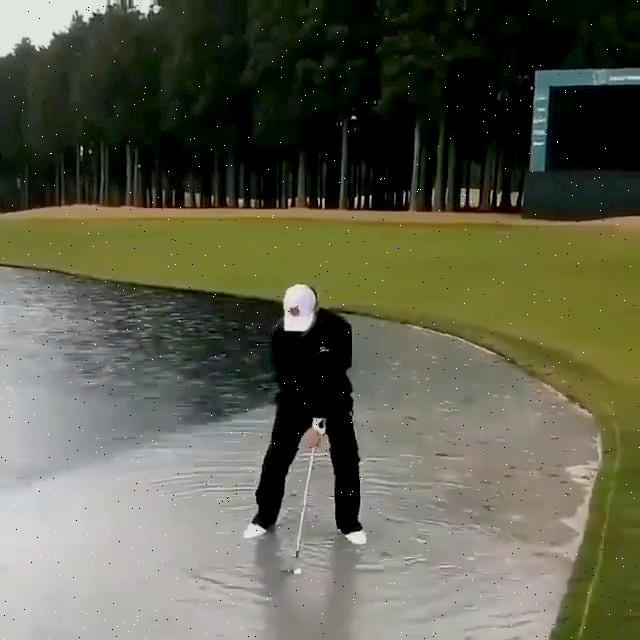golf ball: (294, 568, 301, 575)
golf club-handle: (279, 413, 327, 575)
golf club-head: (280, 568, 295, 574)
